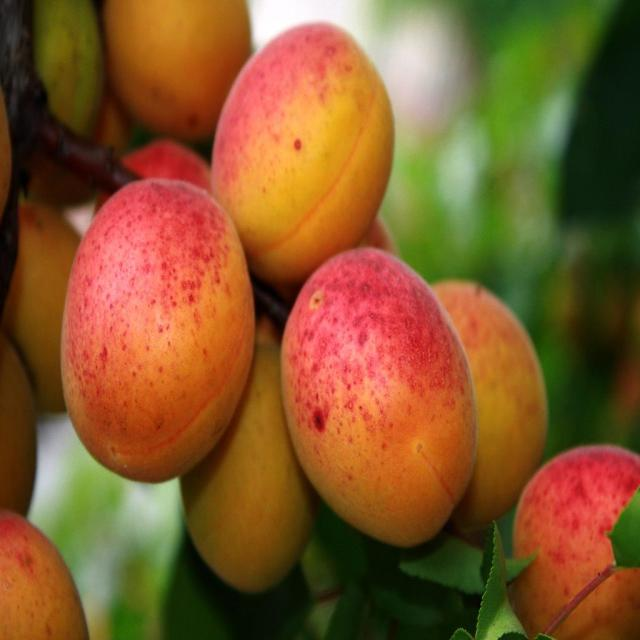Peach: (0, 0, 639, 639), (59, 178, 256, 488)
